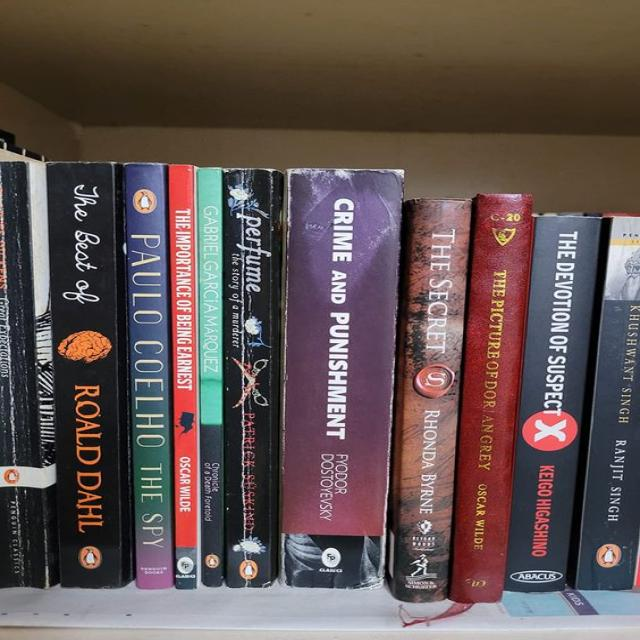book: (284, 169, 402, 588), (503, 214, 600, 592), (48, 163, 132, 587), (449, 194, 532, 603), (386, 198, 470, 600), (0, 133, 58, 588), (224, 169, 281, 587), (576, 217, 639, 589), (124, 164, 172, 588), (168, 165, 200, 589), (197, 169, 224, 586)
